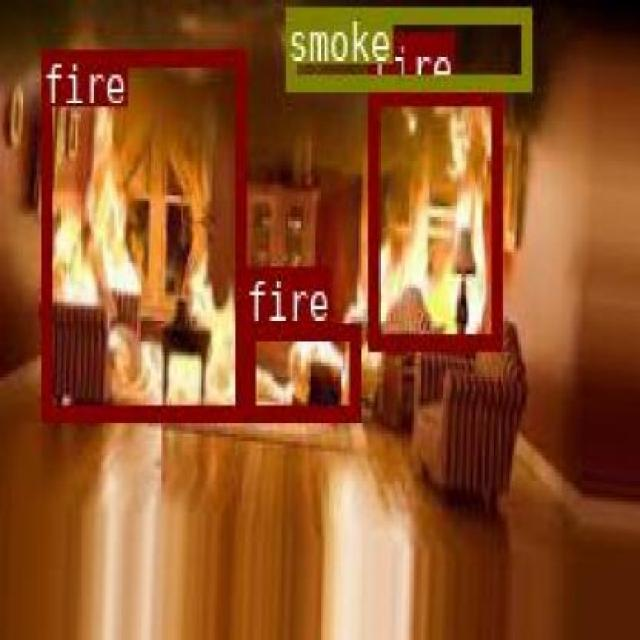Fire: (39, 46, 242, 417), (368, 88, 500, 348), (244, 322, 358, 418)
Smoke: (284, 4, 528, 88)
